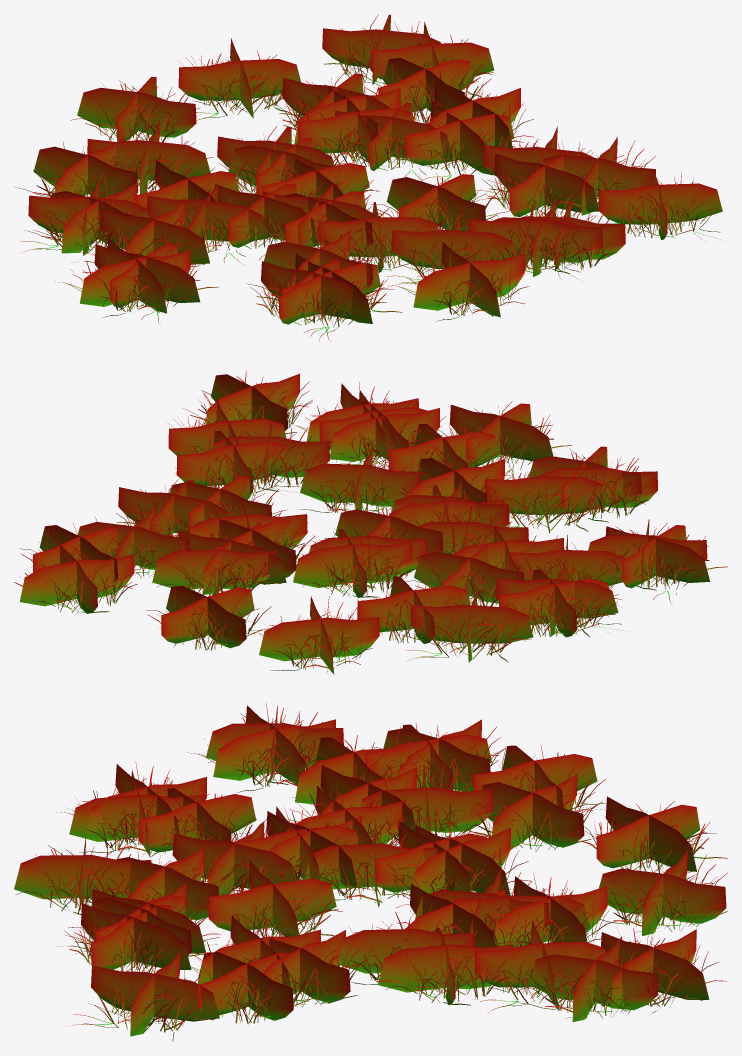
File: Batched_LOD3.fbx
The picture shows the model from 3 angles, top to bottom: view 1: azimuth 30°, elevation 25°; view 2: azimuth 150°, elevation 25°; view 3: azimuth 270°, elevation 25°; orthographic projection. The views are drawn at different scales.
Visible parts, largest first — view 1: _vpqz_Var19_LOD3; view 2: _vpqz_Var19_LOD3; view 3: _vpqz_Var19_LOD3.
Part boxes in pixels (<box>): _vpqz_Var19_LOD3: <box>14,14,722,341</box>; _vpqz_Var19_LOD3: <box>14,371,727,674</box>; _vpqz_Var19_LOD3: <box>14,703,727,1041</box>.
Size of the model in its own units: 239 by 15.73 by 230.
